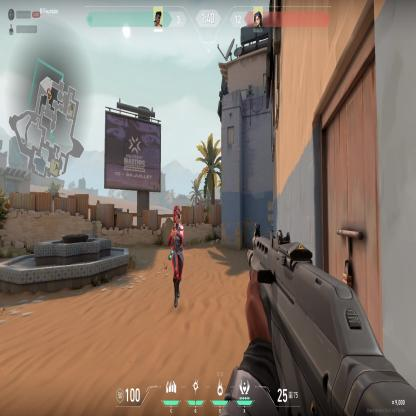enemy: (167, 204, 185, 308)
